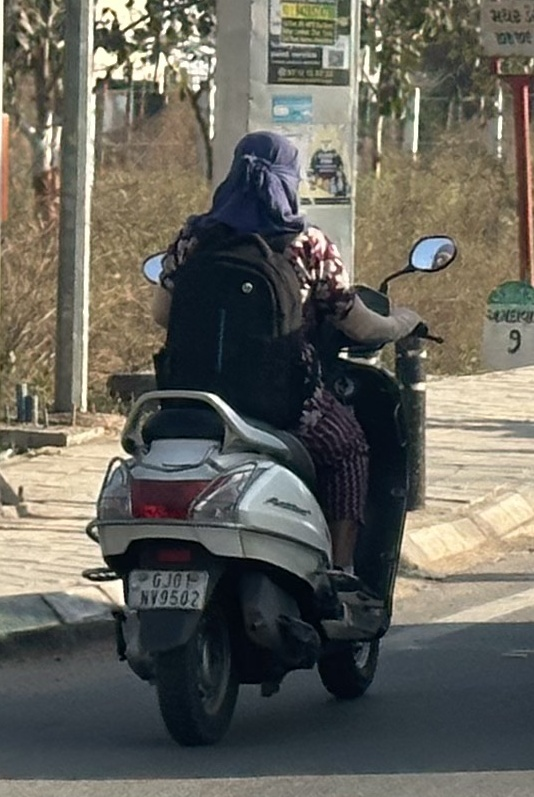BikeWithRider: (76, 129, 460, 753)
NoHelmet: (218, 130, 310, 221)
